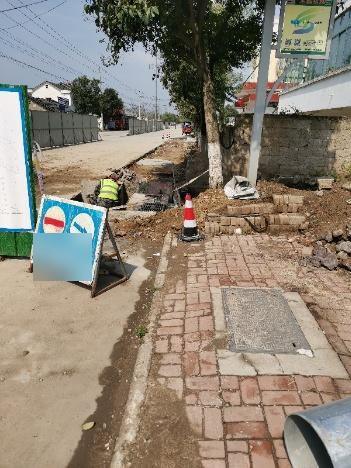wellcover: (214, 275, 326, 375)
